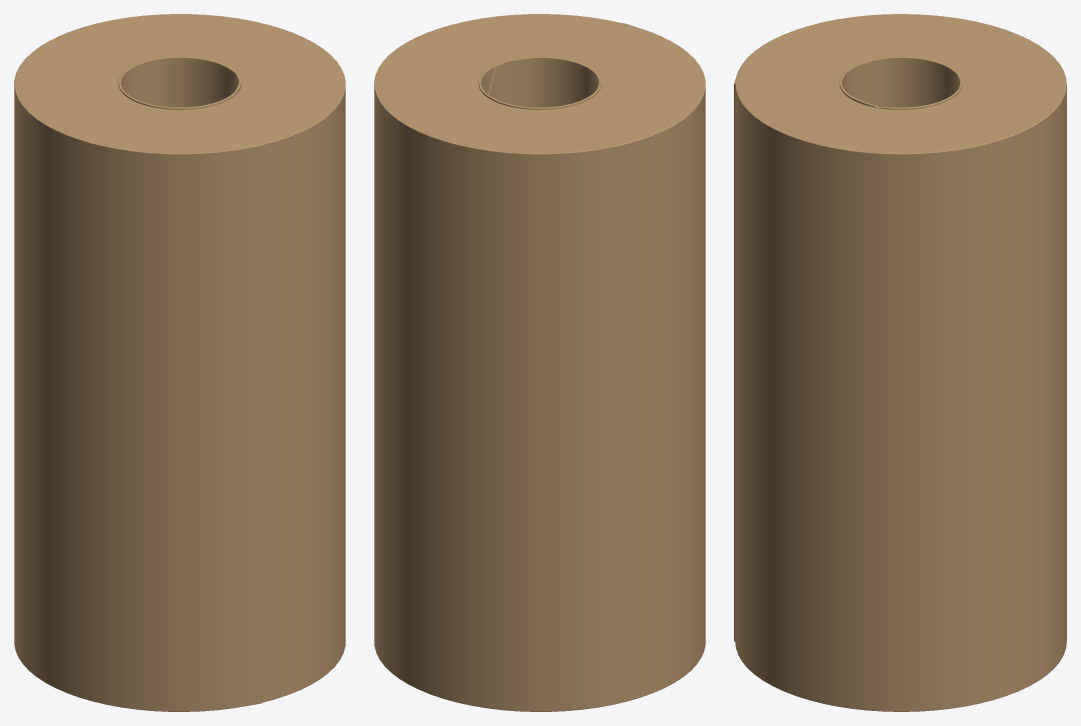
The model's file is consumable_paperTowel_roll_a01.glb.
3 views of the same model, side by side, from view 1: azimuth 30°, elevation 25°; view 2: azimuth 150°, elevation 25°; view 3: azimuth 270°, elevation 25° (orthographic).
Size of the model in its own units: 0.1238 by 0.2306 by 0.1242.
